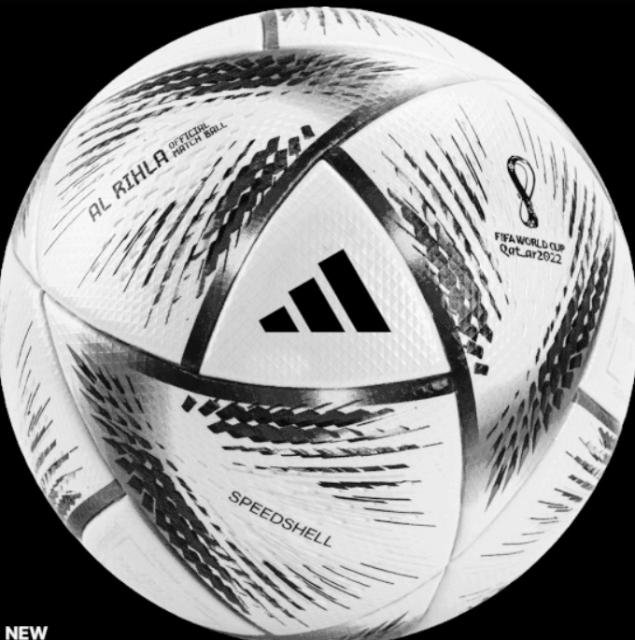Adidas: (254, 246, 400, 346)
